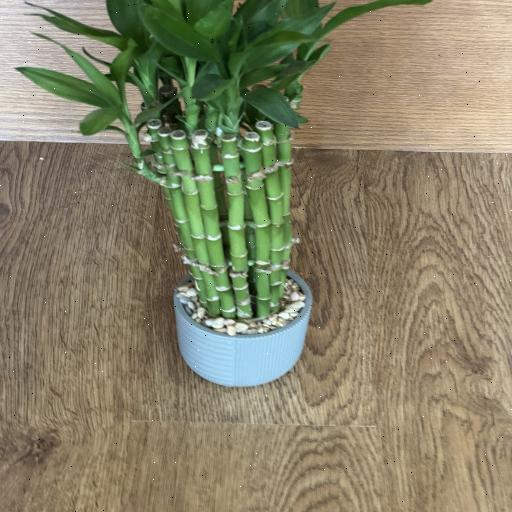Plant Pot: (172, 261, 314, 387)
